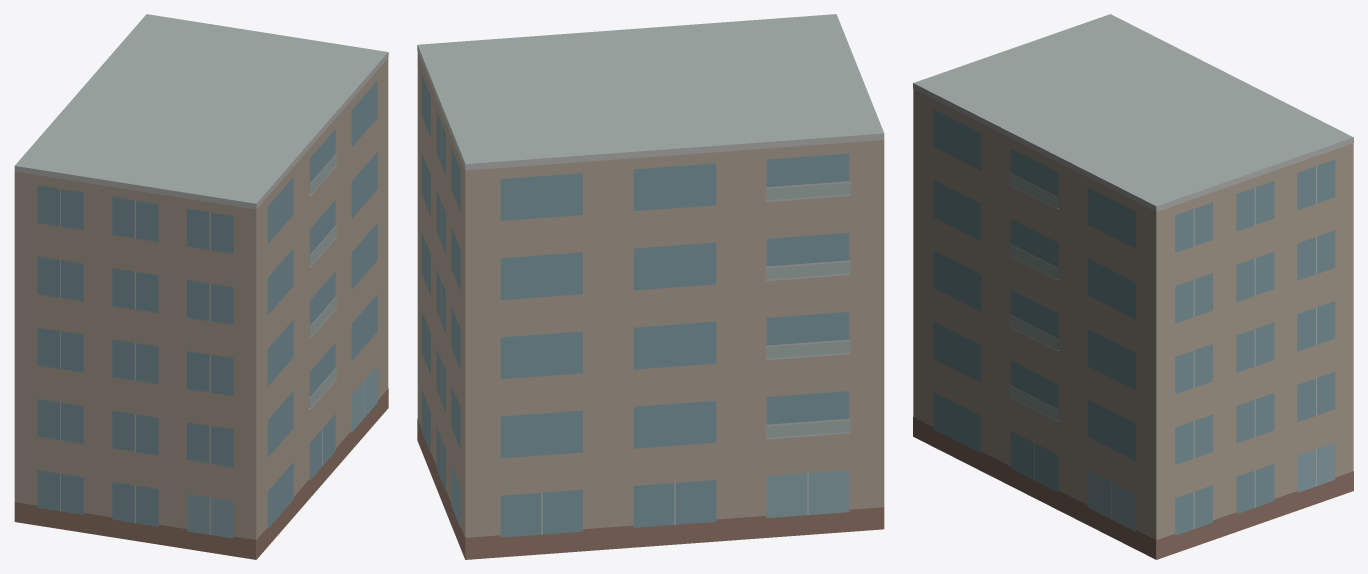
File: survey-upis-32845713.glb
3 views of the same model, side by side, from view 1: azimuth 30°, elevation 25°; view 2: azimuth 150°, elevation 25°; view 3: azimuth 270°, elevation 25° (orthographic). The views are drawn at different scales.
Parts seen in each view (by area): view 1: survey-upis-32845713.tmp; view 2: survey-upis-32845713.tmp; view 3: survey-upis-32845713.tmp.
Boxes of the visible parts, x1,y1,x2,y2 form: survey-upis-32845713.tmp: [14, 14, 388, 559]; survey-upis-32845713.tmp: [417, 14, 884, 559]; survey-upis-32845713.tmp: [913, 14, 1353, 559].
Bounding box in the file's own units: 17.63 × 15.1 × 17.07.
